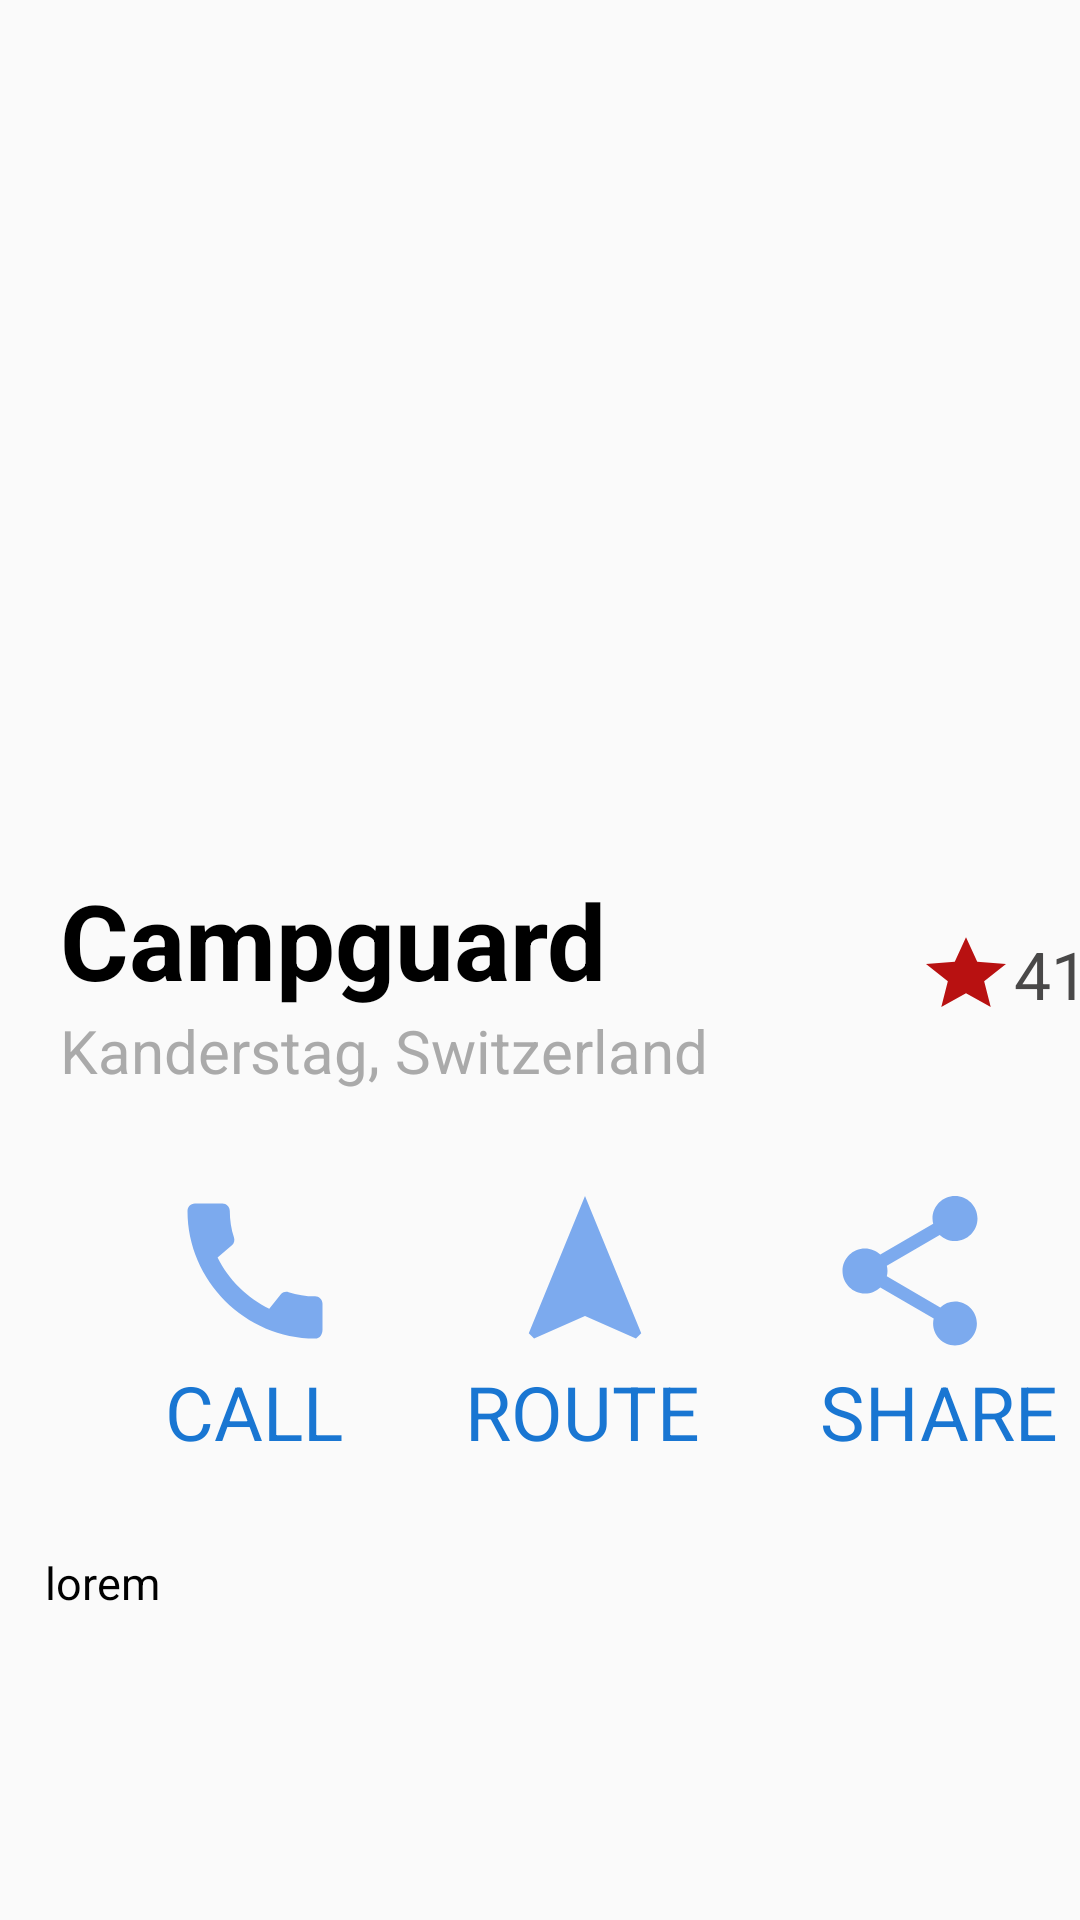

Where to tap for icons on this 1080w x 1920h app screen, as (x,y):
navigation: (585,1267)
star: (966,972)
